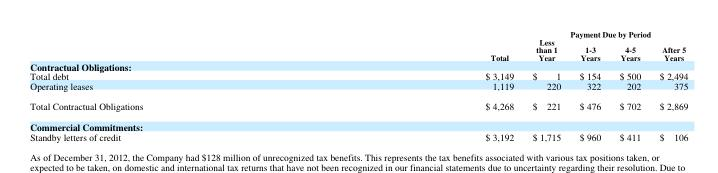table: (29, 28, 687, 142)
table column: (29, 28, 313, 142), (313, 28, 522, 142), (522, 28, 569, 142), (569, 28, 609, 142), (609, 28, 649, 142), (649, 28, 687, 142)
table column header: (29, 28, 687, 61)
table projected row header: (29, 116, 687, 132), (29, 61, 687, 71)
table row: (29, 37, 687, 61), (29, 95, 687, 116), (29, 116, 687, 132), (29, 80, 687, 95), (29, 61, 687, 71), (29, 132, 687, 142), (29, 28, 687, 37), (29, 71, 687, 80)
table spanning cell: (313, 28, 522, 61), (522, 28, 687, 37)
